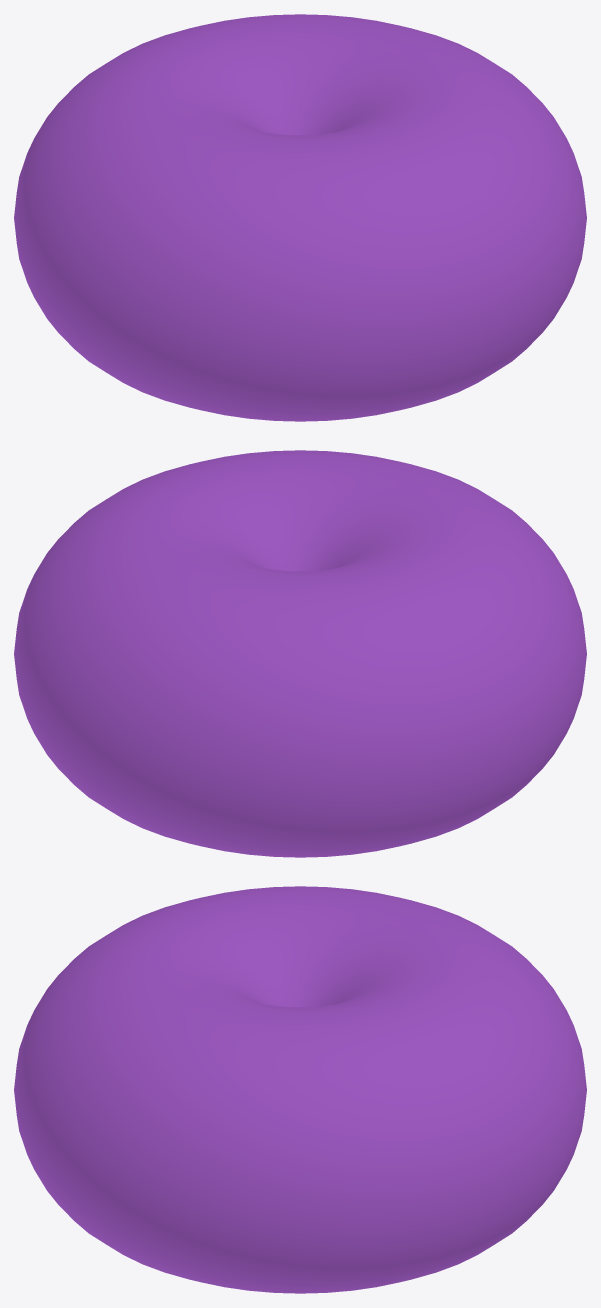
File: pattern_3d.glb
3 views of the same model, one above another, from view 1: azimuth 30°, elevation 25°; view 2: azimuth 150°, elevation 25°; view 3: azimuth 270°, elevation 25° (orthographic).
Parts seen in each view (by area): view 1: pattern_3d; view 2: pattern_3d; view 3: pattern_3d.
Boxes of the visible parts, bbox=[...] form: pattern_3d: bbox=[14, 14, 586, 421]; pattern_3d: bbox=[14, 450, 586, 857]; pattern_3d: bbox=[14, 886, 586, 1293].
Size of the model in its own units: 1.2 by 0.6 by 1.2.
